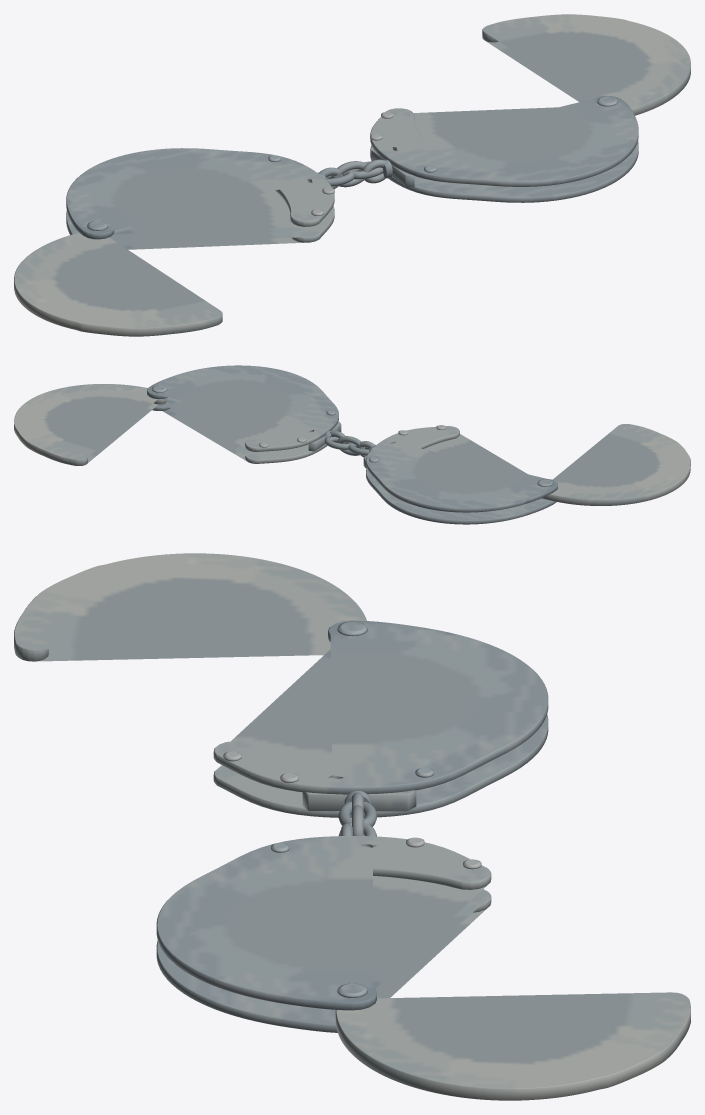
Rendered from Cuffs_Model.fbx.
3 views of the same model, one above another, from view 1: azimuth 30°, elevation 25°; view 2: azimuth 150°, elevation 25°; view 3: azimuth 270°, elevation 25° (orthographic). The views are drawn at different scales.
Parts seen in each view (by area): view 1: TT_Cuffs_M45_Handcuffs__CUFFS_L_Fixed_Cheek_Upper, TT_Cuffs_M45_Handcuffs__CUFFS_R_Fixed_Cheek_Upper, TT_Cuffs_M45_Handcuffs__CUFFS_L_Rotating_Single_Bow, TT_Cuffs_M45_Handcuffs__CUFFS_R_Rotating_Single_Bow, TT_Cuffs_M45_Handcuffs__CUFFS_R_Fixed_Cheek_Lower, TT_Cuffs_M45_Handcuffs__CUFFS_L_Fixed_Cheek_Lower; view 2: TT_Cuffs_M45_Handcuffs__CUFFS_R_Fixed_Cheek_Upper, TT_Cuffs_M45_Handcuffs__CUFFS_L_Fixed_Cheek_Upper, TT_Cuffs_M45_Handcuffs__CUFFS_R_Rotating_Single_Bow, TT_Cuffs_M45_Handcuffs__CUFFS_L_Rotating_Single_Bow, TT_Cuffs_M45_Handcuffs__CUFFS_L_Fixed_Cheek_Lower, TT_Cuffs_M45_Handcuffs__CUFFS_R_Fixed_Cheek_Lower; view 3: TT_Cuffs_M45_Handcuffs__CUFFS_R_Fixed_Cheek_Upper, TT_Cuffs_M45_Handcuffs__CUFFS_L_Fixed_Cheek_Upper, TT_Cuffs_M45_Handcuffs__CUFFS_R_Rotating_Single_Bow, TT_Cuffs_M45_Handcuffs__CUFFS_L_Rotating_Single_Bow, TT_Cuffs_M45_Handcuffs__CUFFS_R_Fixed_Cheek_Lower, TT_Cuffs_M45_Handcuffs__CUFFS_L_Fixed_Cheek_Lower, TT_Cuffs_M45_Handcuffs__CUFFS_L_Lock_Back_Bridge.
Boxes of the visible parts, x1=… form: TT_Cuffs_M45_Handcuffs__CUFFS_L_Fixed_Cheek_Upper: x1=66, y1=148, x2=334, y2=239; TT_Cuffs_M45_Handcuffs__CUFFS_R_Fixed_Cheek_Upper: x1=370, y1=95, x2=638, y2=186; TT_Cuffs_M45_Handcuffs__CUFFS_L_Rotating_Single_Bow: x1=14, y1=232, x2=222, y2=336; TT_Cuffs_M45_Handcuffs__CUFFS_R_Rotating_Single_Bow: x1=482, y1=14, x2=690, y2=115; TT_Cuffs_M45_Handcuffs__CUFFS_R_Fixed_Cheek_Lower: x1=370, y1=141, x2=638, y2=202; TT_Cuffs_M45_Handcuffs__CUFFS_L_Fixed_Cheek_Lower: x1=66, y1=206, x2=334, y2=249; TT_Cuffs_M45_Handcuffs__CUFFS_R_Fixed_Cheek_Upper: x1=147, y1=365, x2=338, y2=451; TT_Cuffs_M45_Handcuffs__CUFFS_L_Fixed_Cheek_Upper: x1=366, y1=426, x2=557, y2=512; TT_Cuffs_M45_Handcuffs__CUFFS_R_Rotating_Single_Bow: x1=14, y1=384, x2=166, y2=465; TT_Cuffs_M45_Handcuffs__CUFFS_L_Rotating_Single_Bow: x1=542, y1=424, x2=690, y2=505; TT_Cuffs_M45_Handcuffs__CUFFS_L_Fixed_Cheek_Lower: x1=366, y1=468, x2=556, y2=524; TT_Cuffs_M45_Handcuffs__CUFFS_R_Fixed_Cheek_Lower: x1=152, y1=402, x2=327, y2=463; TT_Cuffs_M45_Handcuffs__CUFFS_R_Fixed_Cheek_Upper: x1=156, y1=836, x2=491, y2=1010; TT_Cuffs_M45_Handcuffs__CUFFS_L_Fixed_Cheek_Upper: x1=213, y1=620, x2=548, y2=794; TT_Cuffs_M45_Handcuffs__CUFFS_R_Rotating_Single_Bow: x1=335, y1=992, x2=690, y2=1100; TT_Cuffs_M45_Handcuffs__CUFFS_L_Rotating_Single_Bow: x1=14, y1=553, x2=366, y2=661; TT_Cuffs_M45_Handcuffs__CUFFS_R_Fixed_Cheek_Lower: x1=156, y1=889, x2=491, y2=1032; TT_Cuffs_M45_Handcuffs__CUFFS_L_Fixed_Cheek_Lower: x1=213, y1=714, x2=548, y2=817; TT_Cuffs_M45_Handcuffs__CUFFS_L_Lock_Back_Bridge: x1=302, y1=790, x2=416, y2=811.
Size of the model in its own units: 190 by 6.4 by 101.
3 materials, 3 textured.
